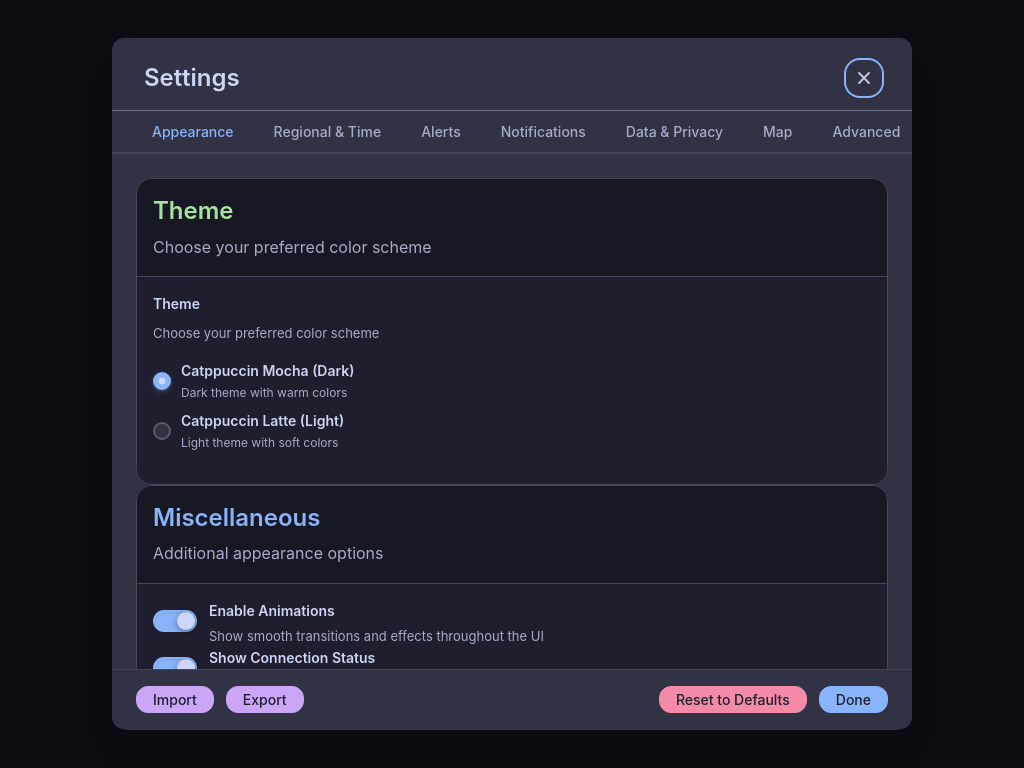
Test: SettingsModal › Regional & Time Settings › should switch to Regional & Time tab and display settings
The width and height of the screenshot is (1024, 768).
Click the tab "Regional & Time": point(327, 133) left=258, top=111, right=397, bottom=154
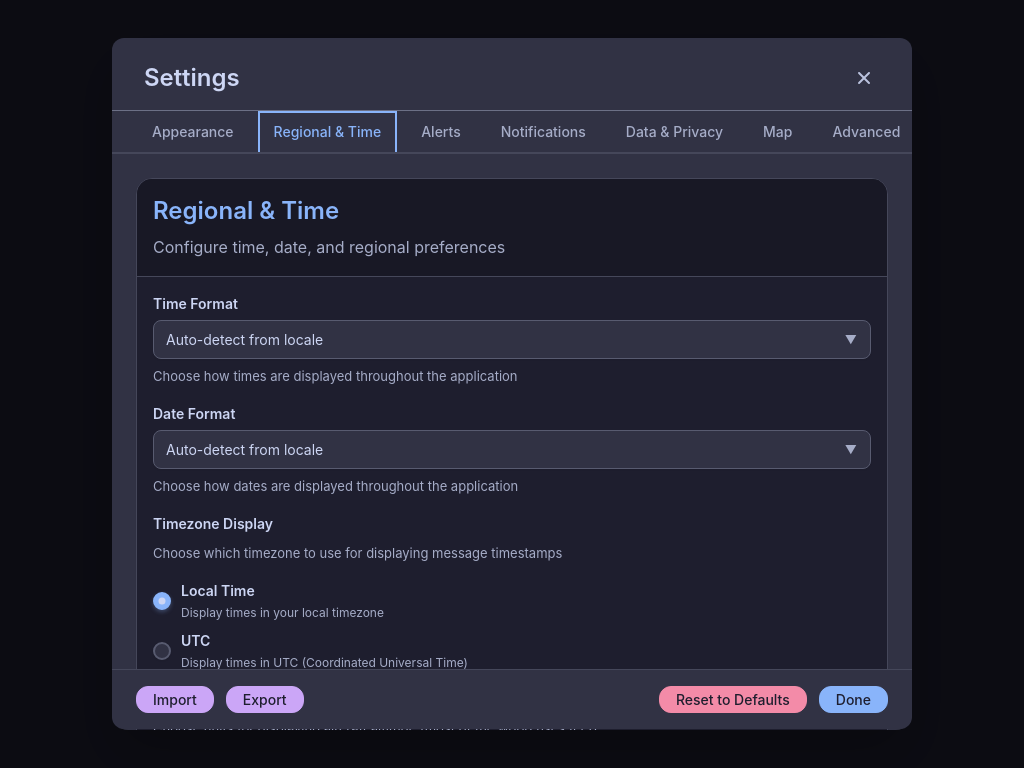
Result: the dropdown labelled "Time Format" is shown at left=153, top=320, right=871, bottom=359
Result: the dropdown labelled "Date Format" is shown at left=153, top=430, right=871, bottom=469
Result: the text "Timezone Display" is shown at left=153, top=513, right=273, bottom=534
